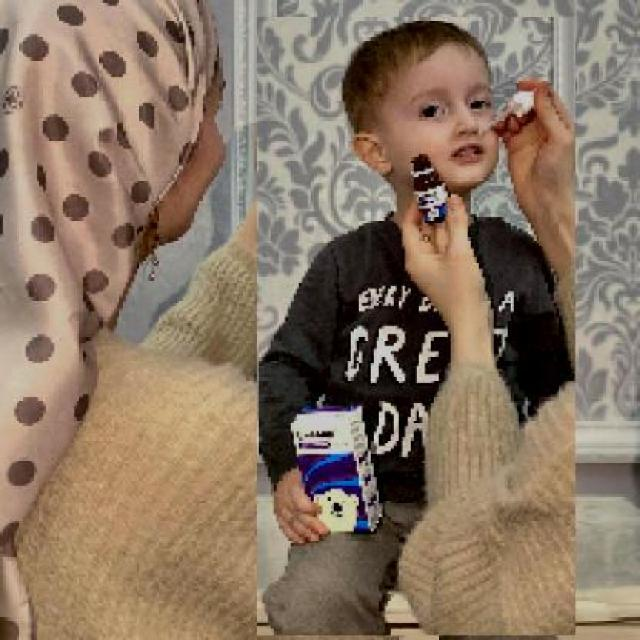child: (255, 17, 574, 637)
